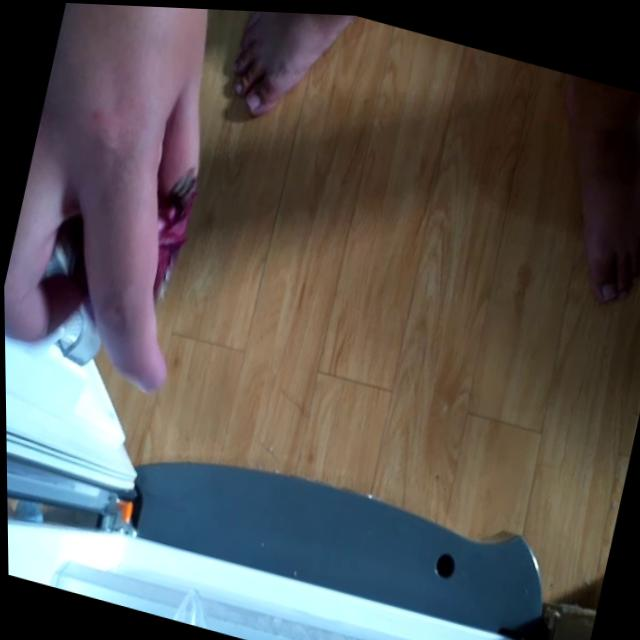onion: (70, 165, 206, 336)
